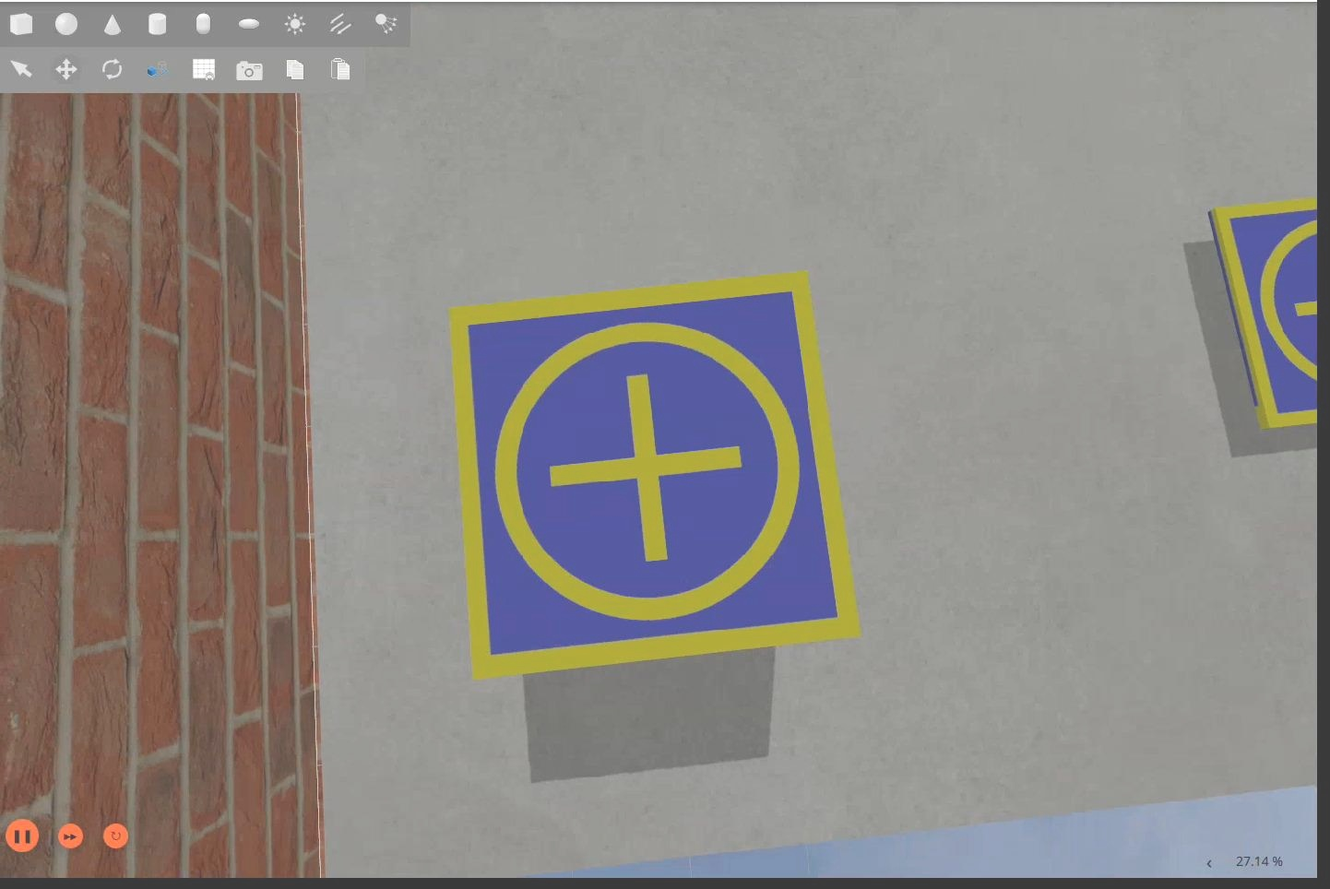small_base: (451, 275, 865, 686), (1208, 197, 1323, 433)
